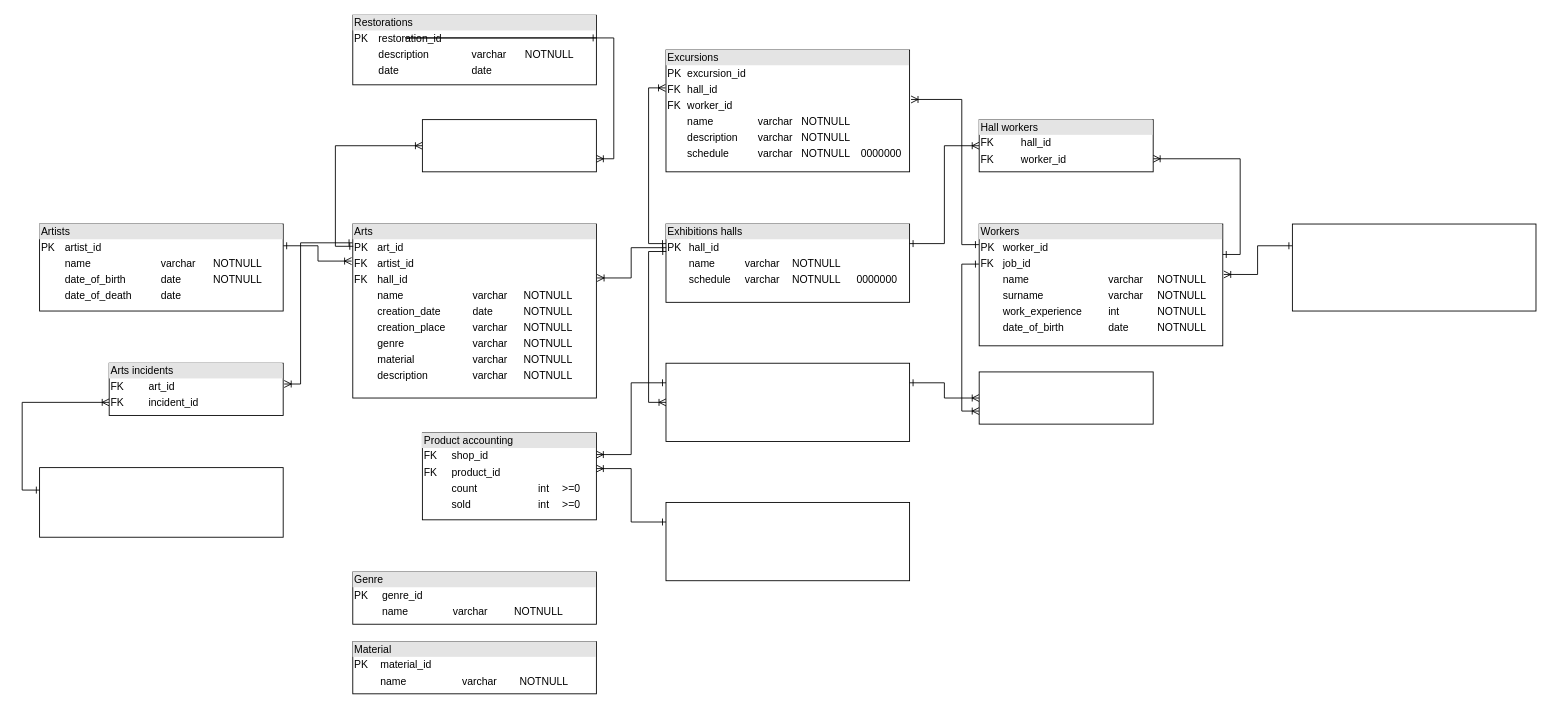
Some shapes in this 1551 by 709 pixel diagram are drawn without their labels. Here are the shapes that lost their labels. From the top down, the centre of each, then its label:
At pixel 509 145: "Arts restorations FK art_id FK restoration_id".
At pixel 1414 267: "Jobs PK job_id name varchar NOTNULL salary money >0 wage rate decimal >0".
At pixel 787 402: "Souvenir shops PK shop_id FK hall_id schedule varchar NOTNULL 0000000".
At pixel 1065 397: "Shop workers FK shop_id FK worker_id".
At pixel 161 502: "Incidents PK incident_id name varchar NOTNULL date date".
At pixel 787 541: "Products PK product_id name varchar NOTNULL cost money >0".
